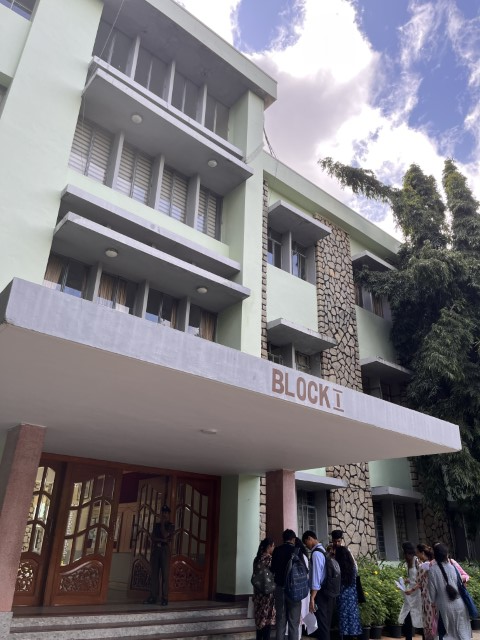Block 1: (4, 3, 480, 553)
